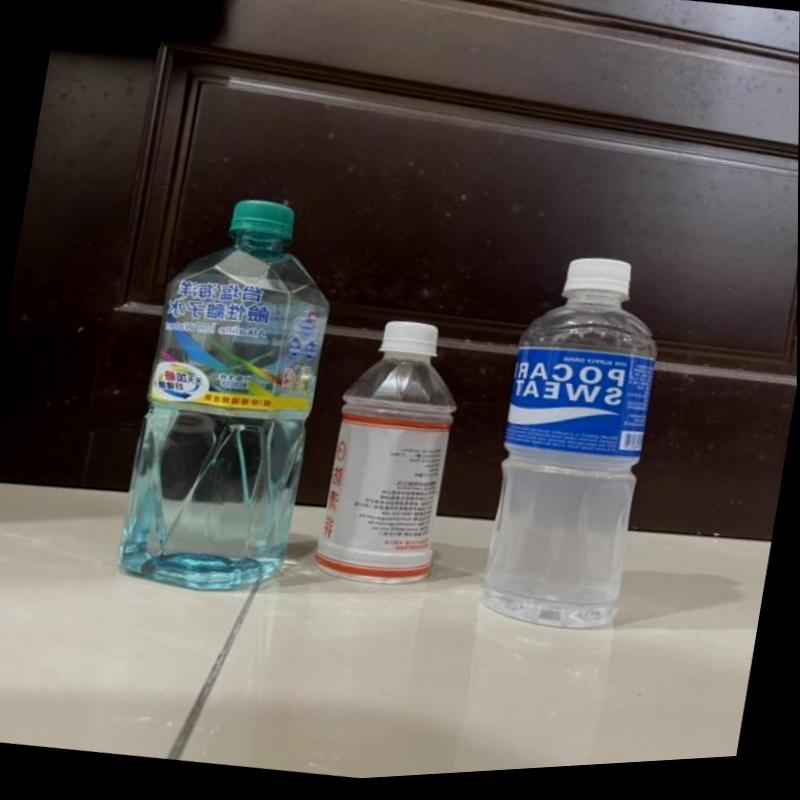botella: (111, 185, 348, 609), (475, 250, 674, 646), (311, 313, 471, 600)
